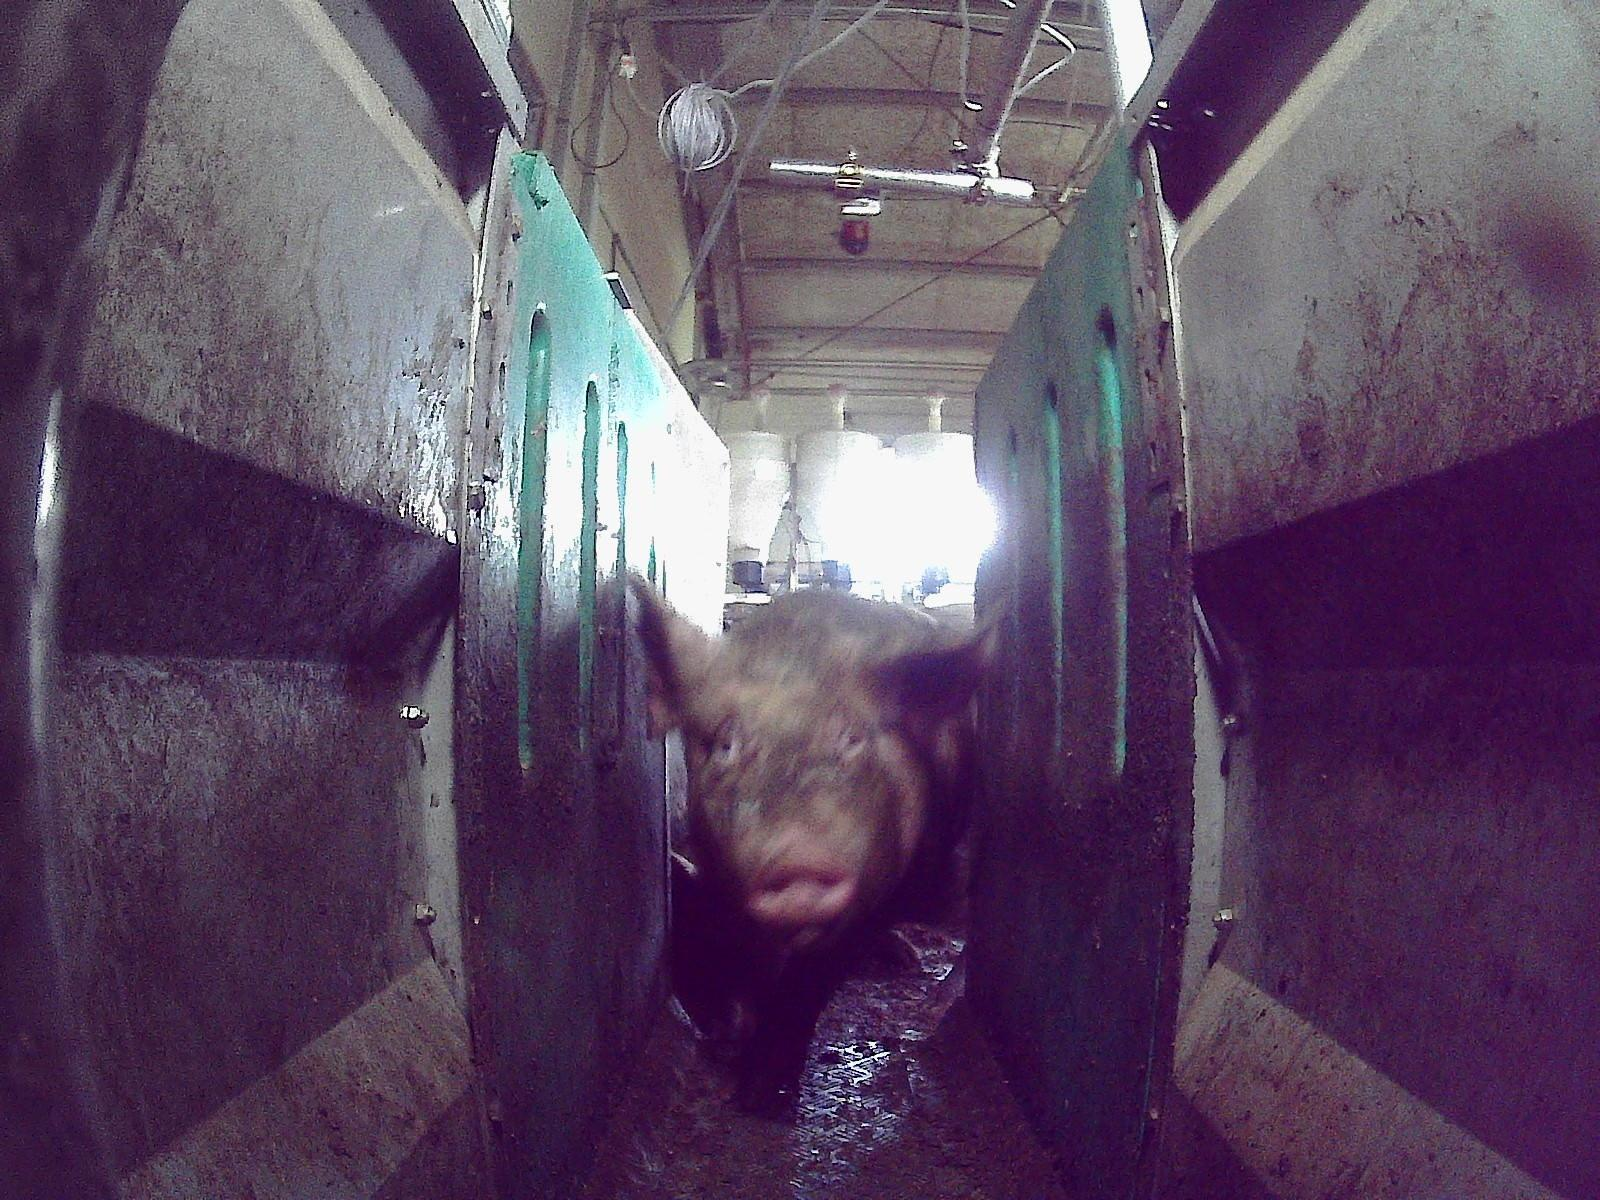Face: (686, 653, 921, 934)
